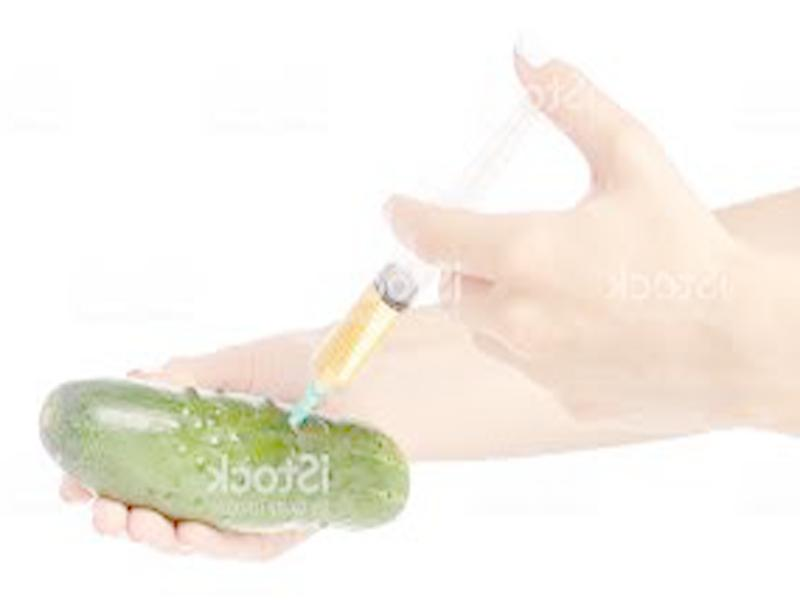Cucumber: (35, 380, 409, 522)
